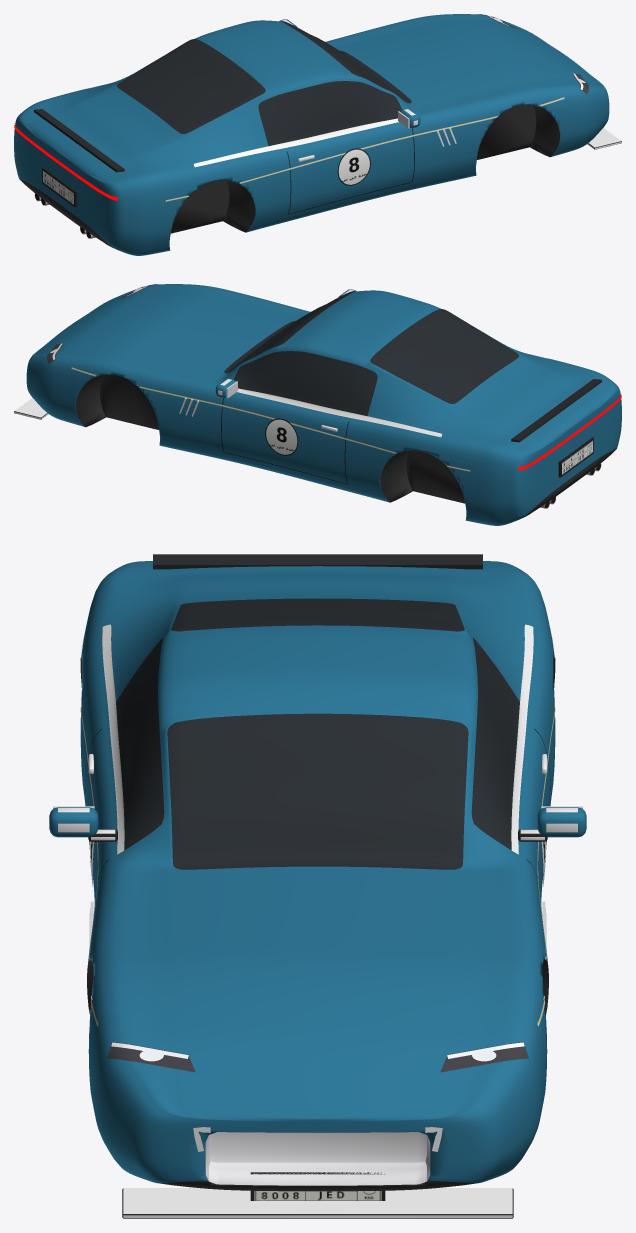
The model's file is SM_JeddahGT_Body.fbx.
3 views of the same model, one above another, from view 1: azimuth 30°, elevation 25°; view 2: azimuth 150°, elevation 25°; view 3: azimuth 270°, elevation 25° (orthographic). The views are drawn at different scales.
Parts seen in each view (by area): view 1: SM_JeddahGT_Body; view 2: SM_JeddahGT_Body; view 3: SM_JeddahGT_Body.
Boxes of the visible parts, x1,y1,x2,y2 form: SM_JeddahGT_Body: (14,14,621,255); SM_JeddahGT_Body: (14,284,621,525); SM_JeddahGT_Body: (49,554,586,1218).
Size of the model in its own units: 486 by 120 by 220.
